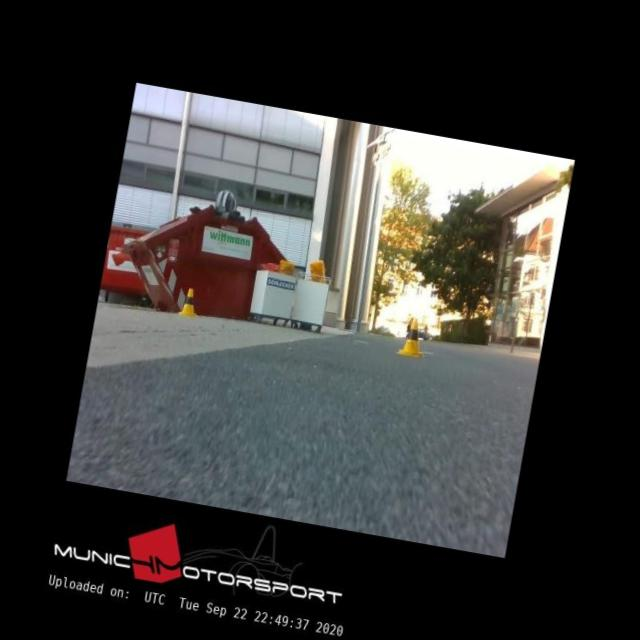Cono de seguridad: (396, 318, 431, 358), (178, 287, 200, 318)
